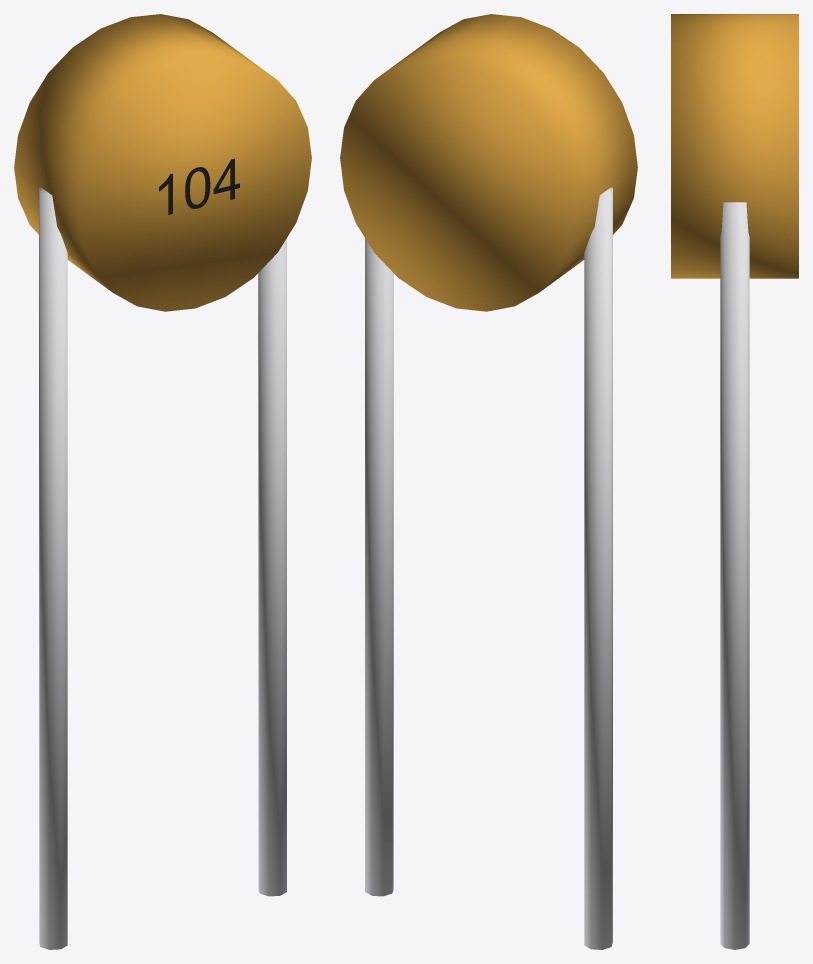
Rendered from ceramic-100nf.glb.
The picture shows the model from 3 angles, left to right: view 1: azimuth 30°, elevation 25°; view 2: azimuth 150°, elevation 25°; view 3: azimuth 270°, elevation 25°; orthographic projection.
Visible parts, largest first — view 1: Body.014, Lead_A.014, Lead_B.014, Marking.001; view 2: Body.014, Lead_A.014, Lead_B.014; view 3: Body.014, Lead_B.014.
Boxes of the visible parts, bbox=[...] form: Body.014: bbox=[14, 14, 311, 311]; Lead_A.014: bbox=[39, 187, 67, 949]; Lead_B.014: bbox=[258, 238, 286, 896]; Marking.001: bbox=[159, 158, 239, 214]; Body.014: bbox=[340, 14, 637, 311]; Lead_A.014: bbox=[584, 187, 612, 949]; Lead_B.014: bbox=[365, 238, 393, 896]; Body.014: bbox=[671, 14, 798, 278]; Lead_B.014: bbox=[720, 202, 749, 949].
Bounding box in the file's own units: 0.00568 × 0.0194 × 0.0027.
